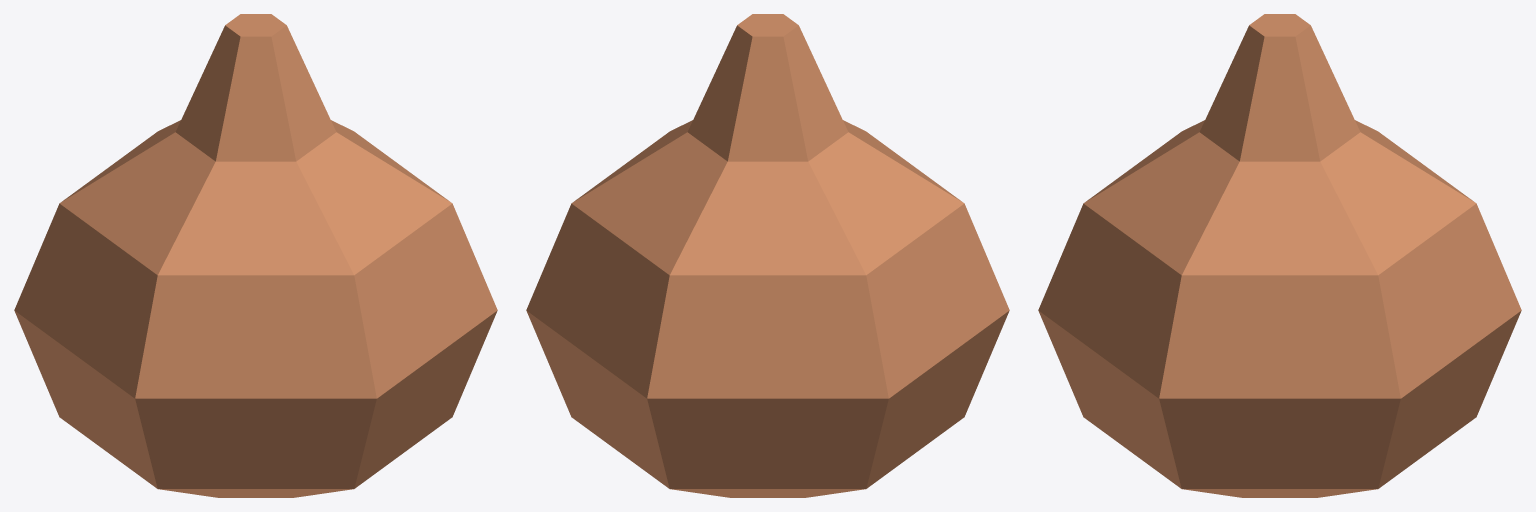
File: onion.fbx
3 views of the same model, side by side, from view 1: azimuth 30°, elevation 25°; view 2: azimuth 150°, elevation 25°; view 3: azimuth 270°, elevation 25° (orthographic).
Parts seen in each view (by area): view 1: onion; view 2: onion; view 3: onion.
Boxes of the visible parts, x1,y1,x2,y2 form: onion: [14, 14, 497, 497]; onion: [526, 14, 1009, 497]; onion: [1038, 14, 1521, 497].
Size of the model in its own units: 2.13 by 2.5 by 2.46.
